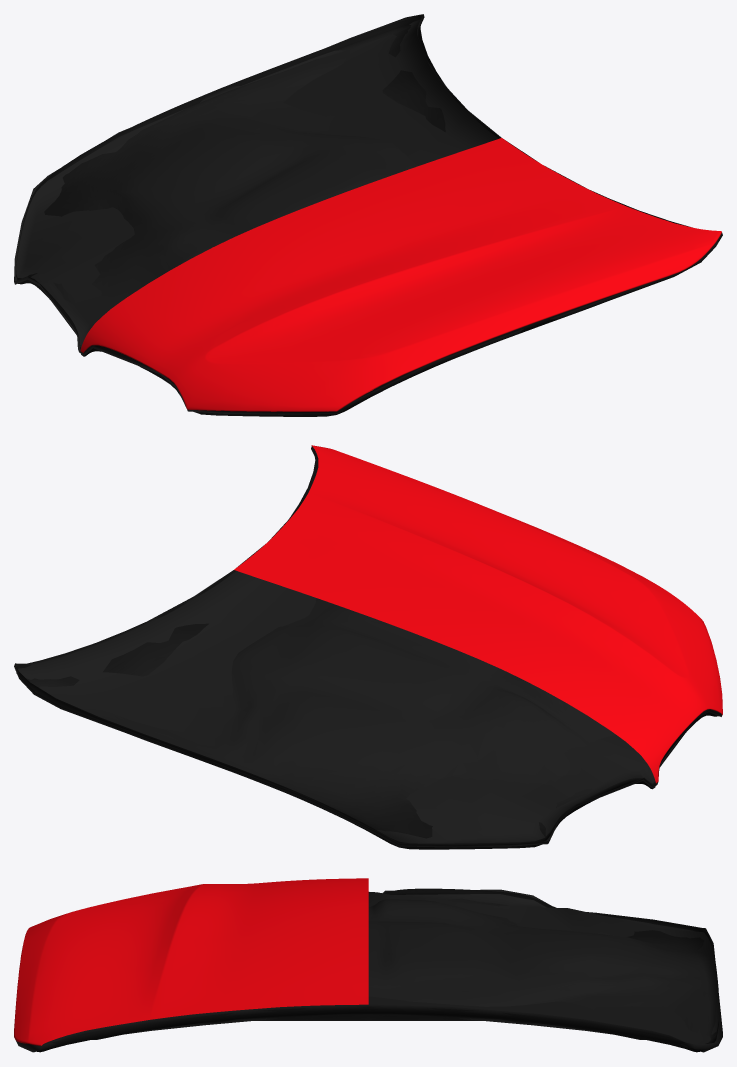
The model's file is O_G05_Hood.gltf.
3 views of the same model, one above another, from view 1: azimuth 30°, elevation 25°; view 2: azimuth 150°, elevation 25°; view 3: azimuth 270°, elevation 25° (orthographic). The views are drawn at different scales.
Parts seen in each view (by area): view 1: 001_Hood_paint, 002_Hood_interior, 003_Hood_void; view 2: 001_Hood_paint, 002_Hood_interior, 003_Hood_void; view 3: 001_Hood_paint, 002_Hood_interior, 003_Hood_void.
Boxes of the visible parts, bbox=[...] form: 001_Hood_paint: bbox=[80, 138, 721, 411]; 002_Hood_interior: bbox=[16, 16, 692, 416]; 003_Hood_void: bbox=[14, 14, 722, 414]; 001_Hood_paint: bbox=[234, 445, 722, 783]; 002_Hood_interior: bbox=[16, 449, 718, 849]; 003_Hood_void: bbox=[14, 446, 722, 847]; 001_Hood_paint: bbox=[14, 878, 368, 1045]; 002_Hood_interior: bbox=[35, 888, 718, 1052]; 003_Hood_void: bbox=[14, 889, 722, 1052].
Bounding box in the file's own units: 147 × 32.9 × 166.
